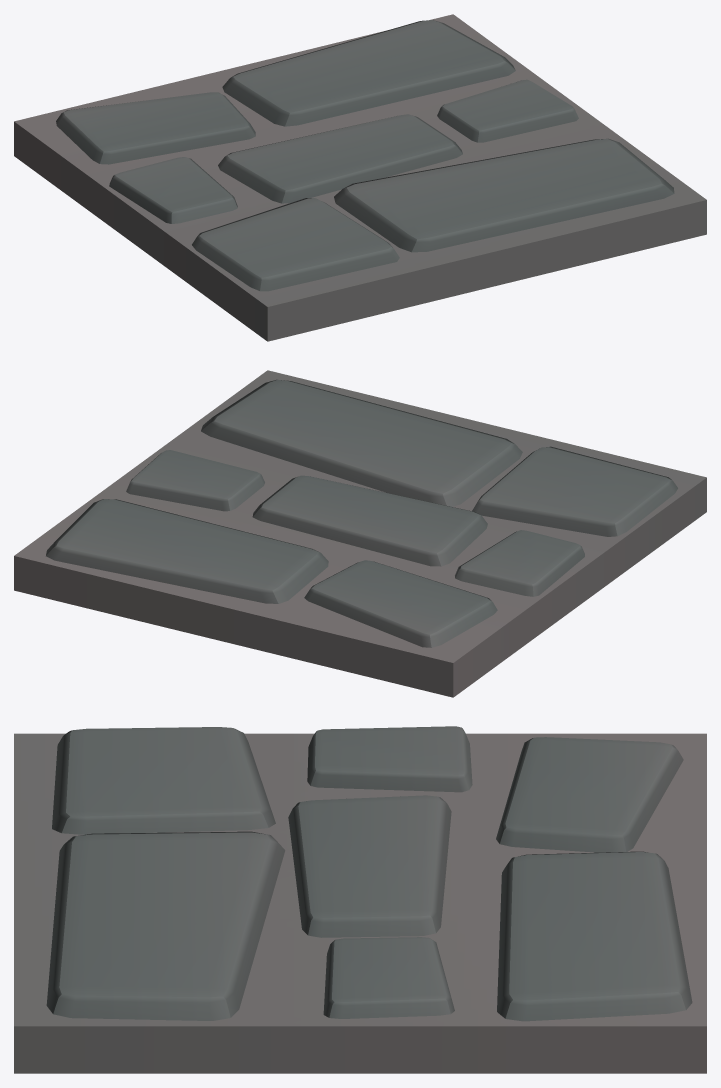
Rendered from SM_StoneFloor.fbx.
3 views of the same model, one above another, from view 1: azimuth 30°, elevation 25°; view 2: azimuth 150°, elevation 25°; view 3: azimuth 270°, elevation 25° (orthographic). The views are drawn at different scales.
Visible parts, largest first — view 1: SM_StoneFloor; view 2: SM_StoneFloor; view 3: SM_StoneFloor.
Boxes of the visible parts, bbox=[...] form: SM_StoneFloor: bbox=[14, 14, 706, 341]; SM_StoneFloor: bbox=[14, 370, 706, 697]; SM_StoneFloor: bbox=[14, 726, 706, 1073].
Size of the model in its own units: 200 by 20.14 by 200.
Materials: 1 (1 with a texture image).
